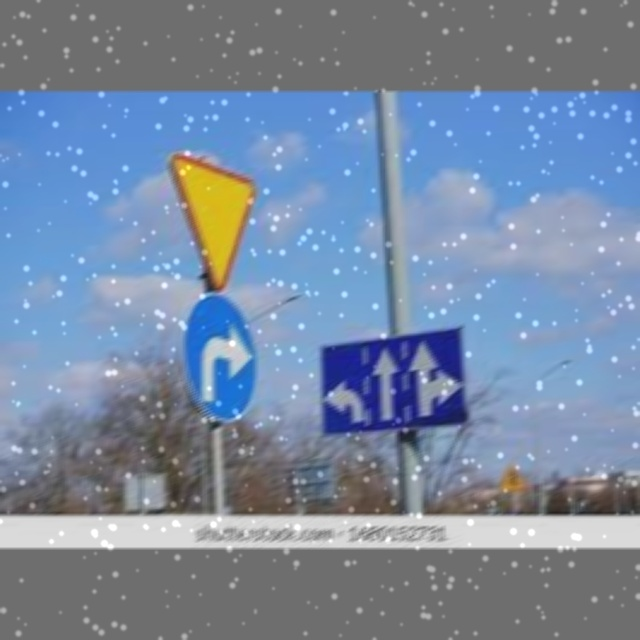Compulsory_Ahead_or_Turn_Right: (401, 320, 466, 436)
